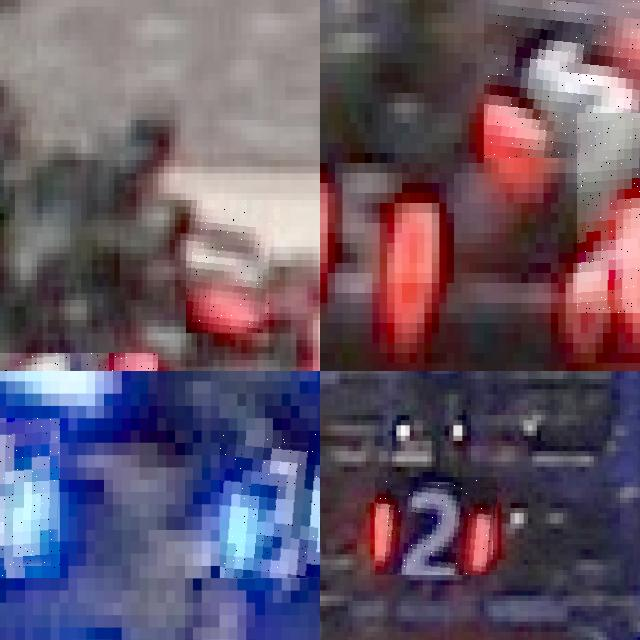B3: (219, 430, 320, 578), (0, 418, 59, 578)
R1: (186, 200, 274, 333)
R2: (375, 477, 497, 575)
R5: (320, 138, 454, 338), (484, 0, 640, 158), (576, 113, 640, 313)
